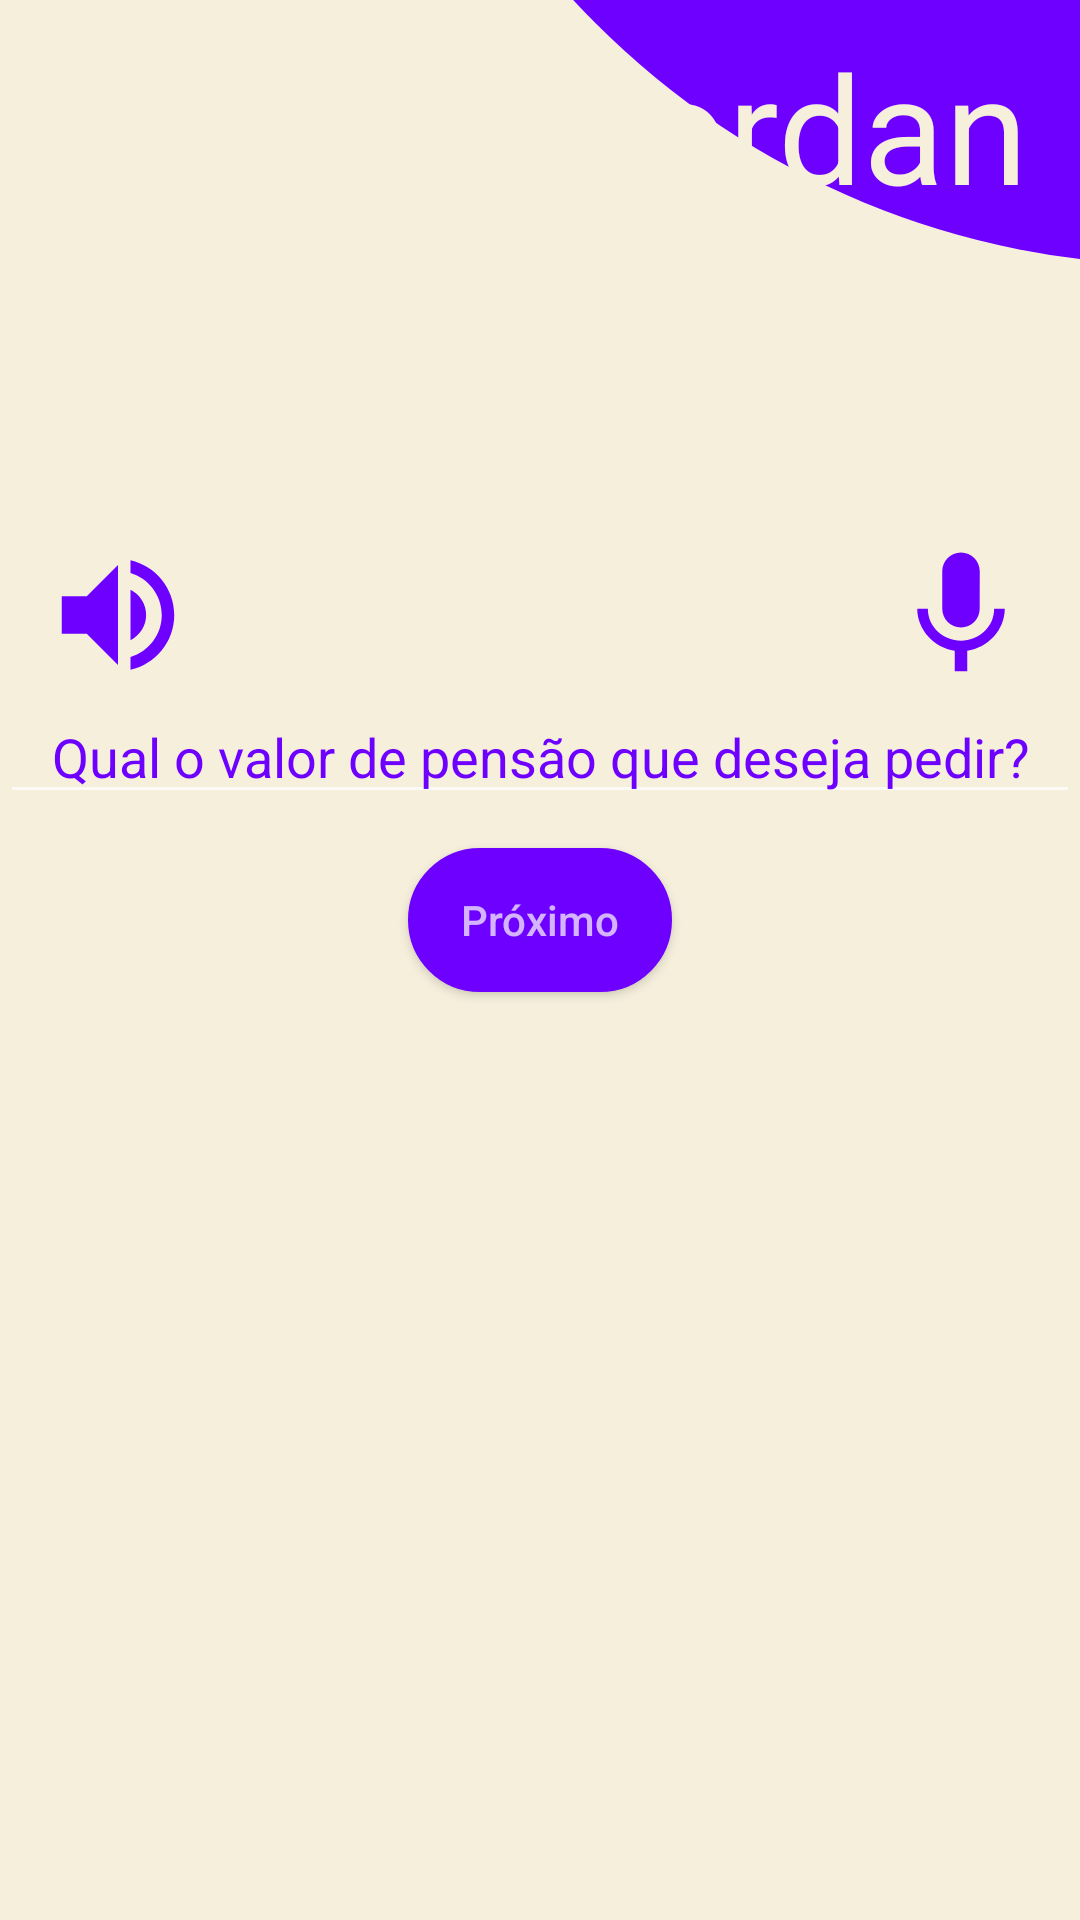

Icon click points for this 1080w x 1920h phone screenshot, format (x,y):
mic: (961,612)
speak: (118,615)
